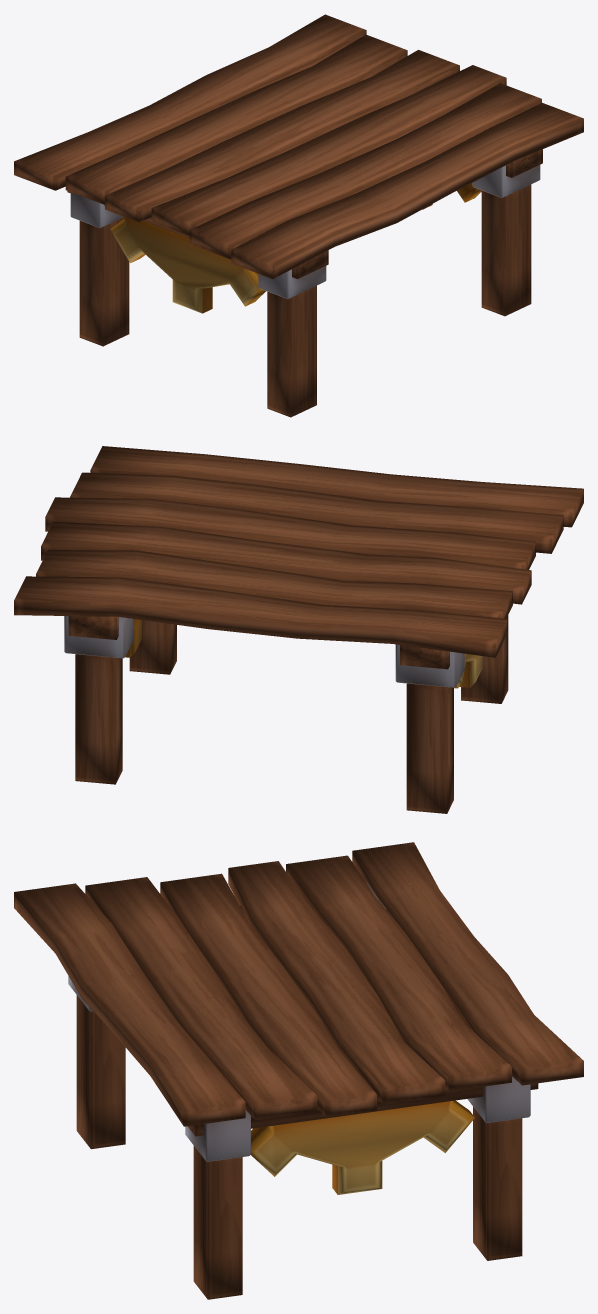
The model's file is TableDone.fbx.
3 renders of one model, top to bottom at view 1: azimuth 30°, elevation 25°; view 2: azimuth 150°, elevation 25°; view 3: azimuth 270°, elevation 25°, orthographic. The views are drawn at different scales.
Parts seen in each view (by area): view 1: Cube.001; view 2: Cube.001; view 3: Cube.001.
Boxes of the visible parts, x1=… form: Cube.001: x1=14, y1=14, x2=583, y2=417; Cube.001: x1=14, y1=446, x2=583, y2=813; Cube.001: x1=14, y1=842, x2=583, y2=1299.
Bounding box in the file's own units: 583 × 219 × 523.
